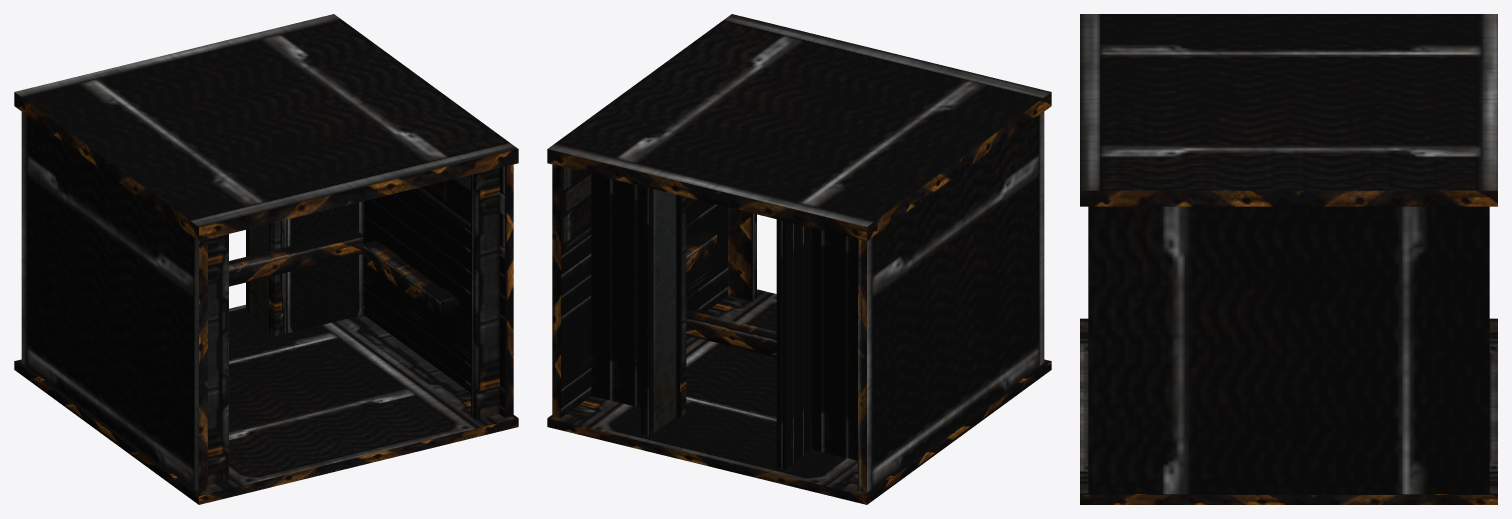
Rendered from lift.obj.
The picture shows the model from 3 angles, left to right: view 1: azimuth 30°, elevation 25°; view 2: azimuth 150°, elevation 25°; view 3: azimuth 270°, elevation 25°; orthographic projection. The views are drawn at different scales.
Visible parts, largest first — view 1: Group; view 2: Group; view 3: Group.
Boxes of the visible parts, x1=… form: Group: x1=14, y1=14, x2=518, y2=504; Group: x1=547, y1=14, x2=1051, y2=504; Group: x1=1080, y1=14, x2=1497, y2=504.
Size of the model in its own units: 211 by 176 by 211.
